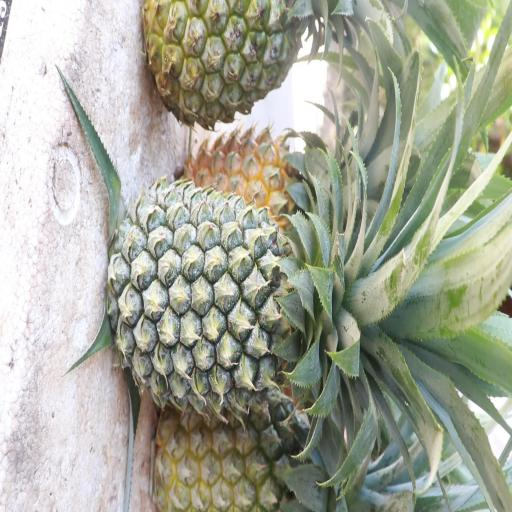------------------------------: (143, 0, 321, 122), (158, 396, 336, 512)
